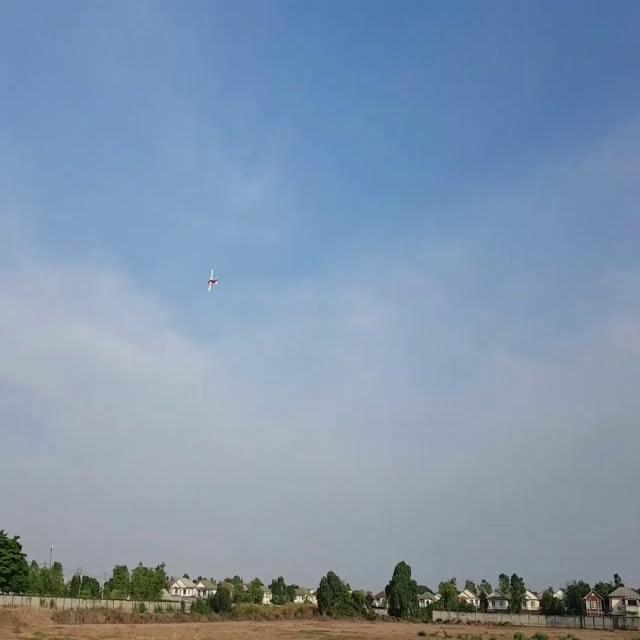iha: (209, 270, 214, 292)
